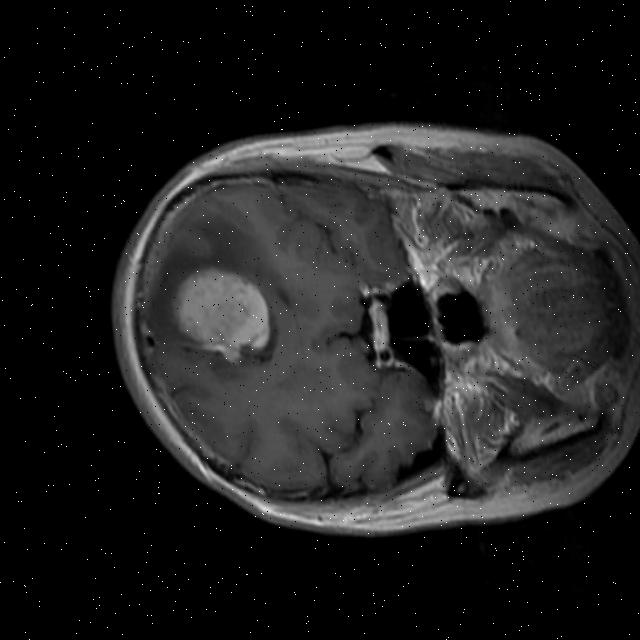Meningioma: (159, 253, 282, 376)
Pituitary: (358, 300, 398, 351)
